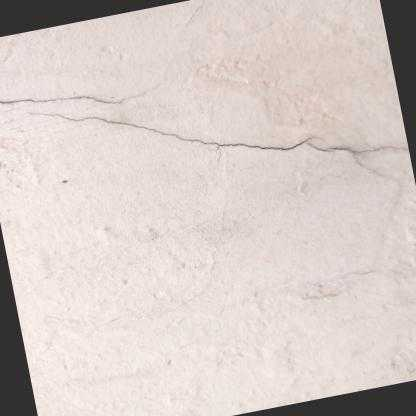crack: (28, 112, 325, 152), (305, 142, 409, 154), (0, 95, 123, 105)
